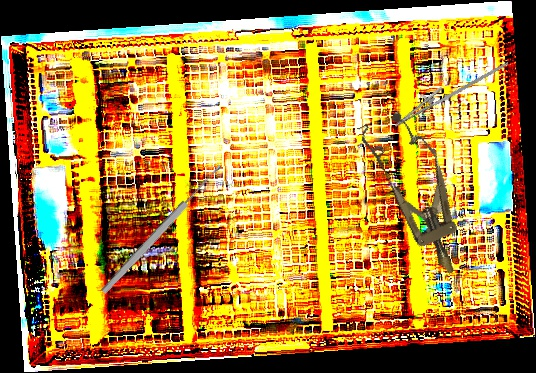Needle Holder: (388, 41, 510, 140)
Speculum: (354, 103, 482, 286)
Surgical Spoon: (99, 162, 225, 296)
